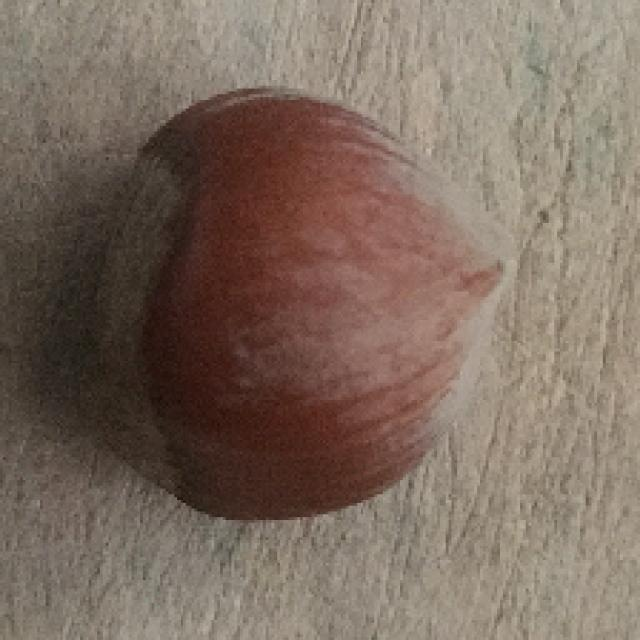qualityHazelnut: (59, 87, 508, 520)
